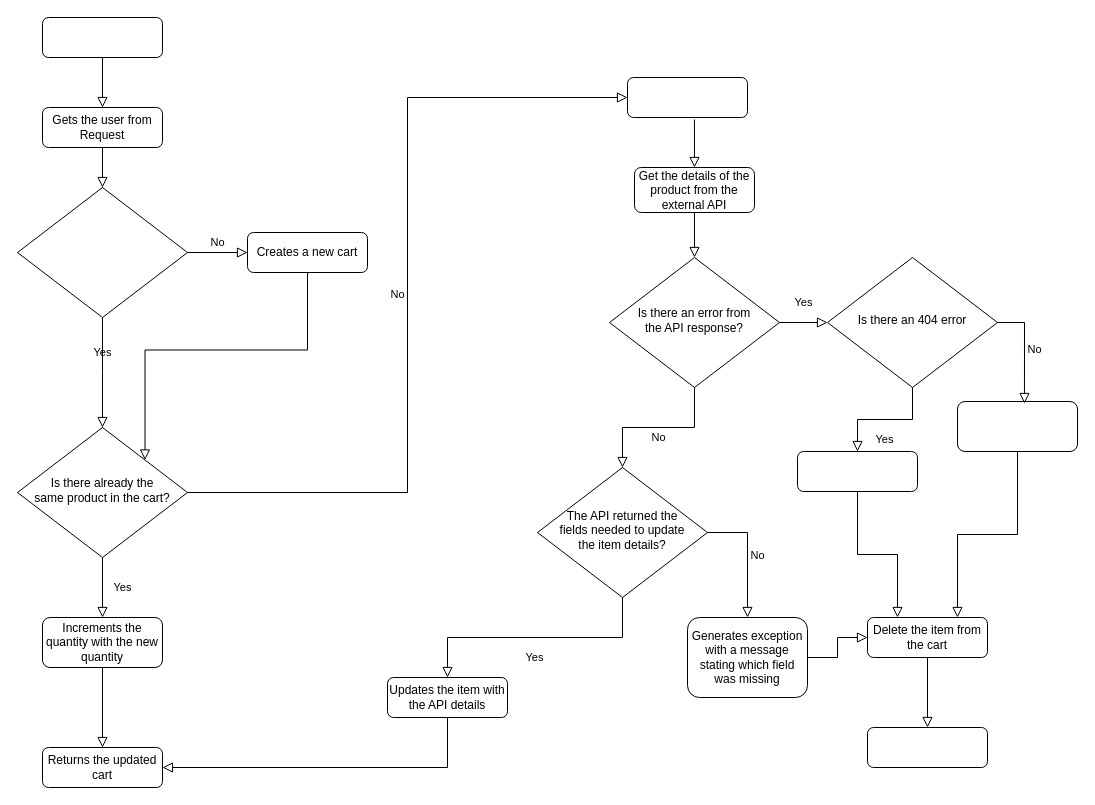
This 1095x805 diagram has some shape labels left out. Here are the shapes that lost their labels. From the top down, the centre of each, then its label:
(x=102, y=37): User tries to get add an item to the cart
(x=687, y=97): Creates the new item
(x=102, y=252): Is there a cart available for the user?
(x=1017, y=426): Generates 500 exception with the error message
(x=857, y=471): Generates 404 exception
(x=927, y=747): Return the error
